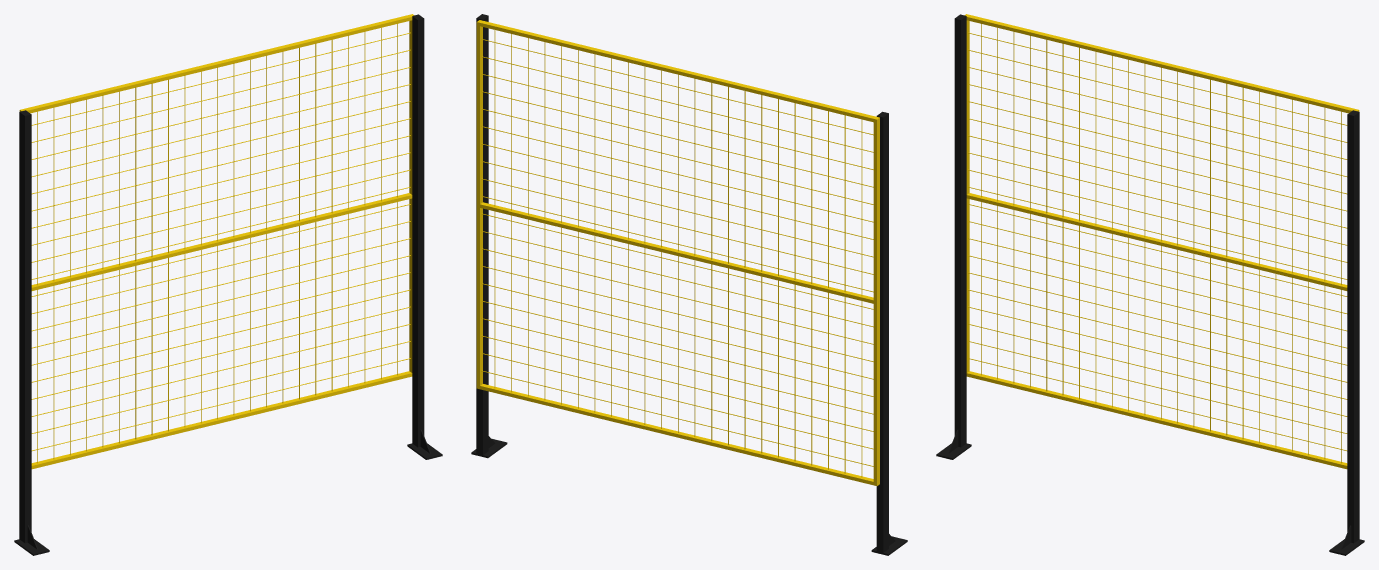
The model's file is generic_fence.glb.
The picture shows the model from 3 angles, left to right: view 1: azimuth 30°, elevation 25°; view 2: azimuth 150°, elevation 25°; view 3: azimuth 330°, elevation 25°; orthographic projection.
Visible parts, largest first — view 1: Mesh [00Ag], Mesh [007g], Mesh [000g], Mesh [002g], Mesh [001g], Mesh [004g], Mesh [00Sg], Mesh [00Kg], Mesh [00Hg], Mesh [00Vg], Mesh [00Cg], Mesh [00Ng] (+24 smaller); view 2: Mesh [007g], Mesh [00Ag], Mesh [000g], Mesh [001g], Mesh [002g], Mesh [003g], Mesh [004g], Mesh [00Ig], Mesh [00Fg], Mesh [00Lg], Mesh [00Rg], Mesh [00Og] (+27 smaller); view 3: Mesh [007g], Mesh [00Ag], Mesh [000g], Mesh [002g], Mesh [001g], Mesh [003g], Mesh [00Gg], Mesh [00Og], Mesh [00Dg], Mesh [00Rg], Mesh [00Wg], Mesh [00Lg] (+24 smaller).
Part boxes in pixels (bbox=[...]): Mesh [00Ag]: bbox=[412, 14, 424, 447]; Mesh [007g]: bbox=[19, 110, 31, 543]; Mesh [000g]: bbox=[23, 15, 412, 113]; Mesh [002g]: bbox=[31, 371, 412, 469]; Mesh [001g]: bbox=[31, 193, 412, 290]; Mesh [004g]: bbox=[409, 14, 414, 372]; Mesh [00Sg]: bbox=[315, 44, 316, 395]; Mesh [00Kg]: bbox=[184, 76, 185, 426]; Mesh [00Hg]: bbox=[135, 87, 136, 439]; Mesh [00Vg]: bbox=[364, 32, 365, 382]; Mesh [00Cg]: bbox=[53, 108, 54, 458]; Mesh [00Ng]: bbox=[233, 64, 234, 414]; Mesh [007g]: bbox=[876, 111, 888, 552]; Mesh [00Ag]: bbox=[476, 14, 488, 455]; Mesh [000g]: bbox=[480, 21, 876, 122]; Mesh [001g]: bbox=[480, 202, 873, 303]; Mesh [002g]: bbox=[480, 384, 873, 485]; Mesh [003g]: bbox=[873, 117, 879, 485]; Mesh [004g]: bbox=[476, 20, 482, 389]; Mesh [00Ig]: bbox=[744, 91, 745, 449]; Mesh [00Fg]: bbox=[794, 103, 795, 461]; Mesh [00Lg]: bbox=[694, 79, 695, 436]; Mesh [00Rg]: bbox=[594, 54, 595, 412]; Mesh [00Og]: bbox=[644, 67, 645, 424]; Mesh [007g]: bbox=[954, 14, 966, 447]; Mesh [00Ag]: bbox=[1347, 110, 1359, 543]; Mesh [000g]: bbox=[966, 15, 1355, 113]; Mesh [002g]: bbox=[966, 371, 1347, 469]; Mesh [001g]: bbox=[966, 193, 1347, 290]; Mesh [003g]: bbox=[964, 14, 969, 372]; Mesh [00Gg]: bbox=[1062, 44, 1063, 395]; Mesh [00Og]: bbox=[1193, 76, 1194, 426]; Mesh [00Dg]: bbox=[1013, 32, 1014, 382]; Mesh [00Rg]: bbox=[1242, 87, 1243, 439]; Mesh [00Wg]: bbox=[1324, 108, 1325, 458]; Mesh [00Lg]: bbox=[1144, 64, 1145, 414].
Size of the model in its own units: 2.5 by 2.5 by 0.23.
